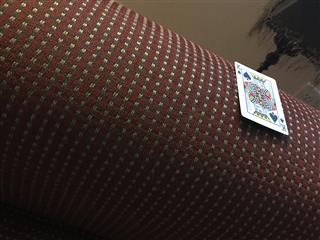KingOfSpades: (233, 60, 289, 136)
